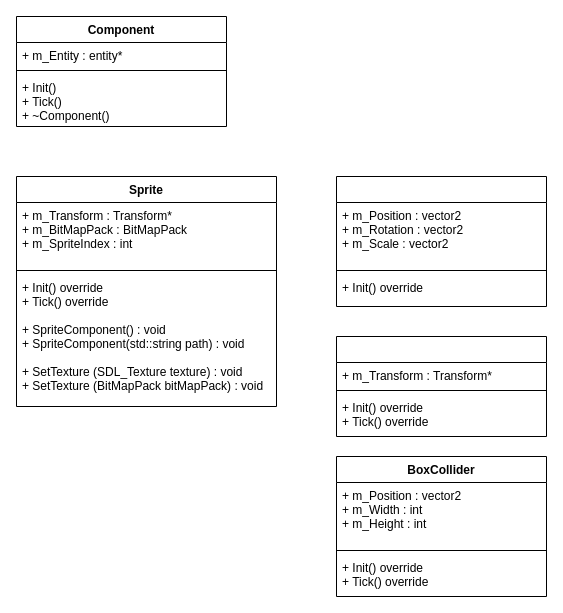
Image size: 563x613. Some labels were removed from this diagram. The shapes that lost their labels are listed below. From the top down, each one's box as (x1, y1, x2, y2) in pixels, then its label:
(336, 176, 546, 306): Transform
(336, 336, 546, 436): CharacterControl
